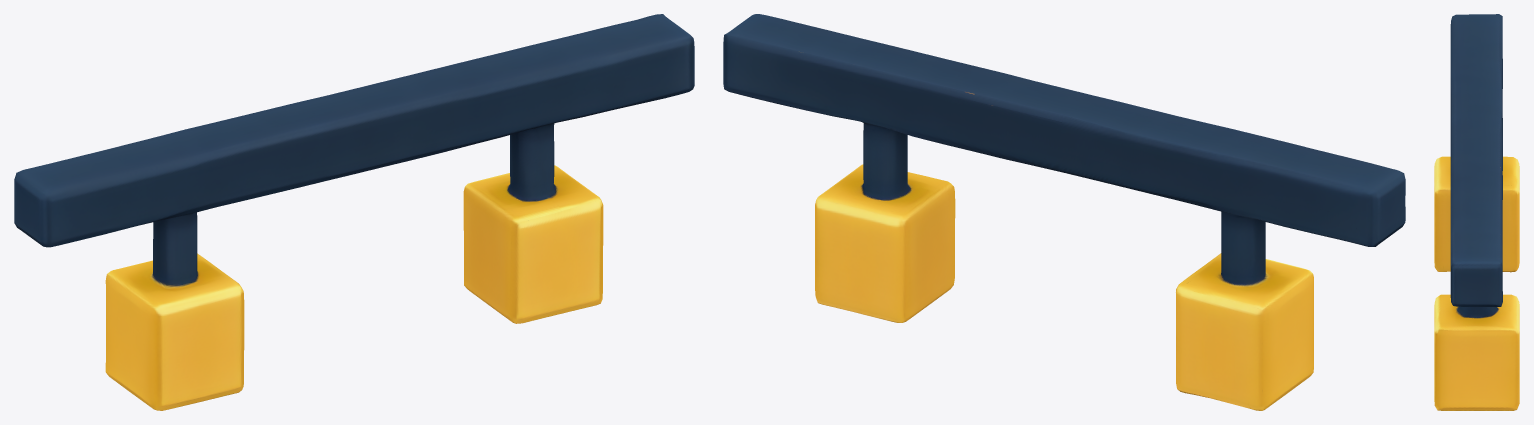
File: 12-lights.fbx
The picture shows the model from 3 angles, left to right: view 1: azimuth 30°, elevation 25°; view 2: azimuth 150°, elevation 25°; view 3: azimuth 270°, elevation 25°; orthographic projection. The views are drawn at different scales.
Visible parts, largest first — view 1: model; view 2: model; view 3: model.
Boxes of the visible parts, x1,y1,x2,y2 form: model: [14, 14, 694, 410]; model: [723, 14, 1405, 410]; model: [1434, 14, 1519, 410].
Bounding box in the file's own units: 190 × 65.95 × 27.13.
